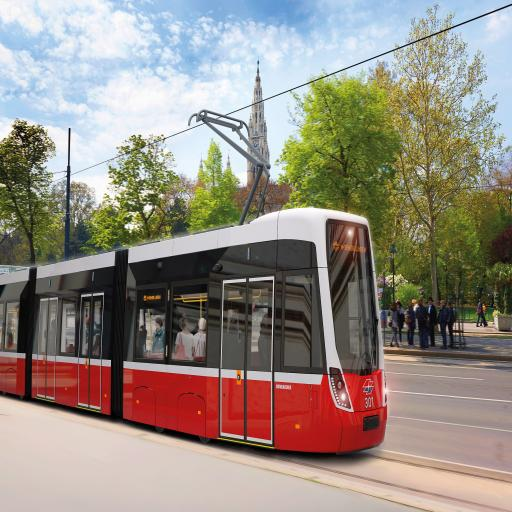Flexity: (0, 205, 391, 452)
